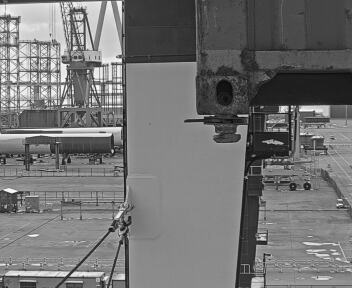twist_lock_1: (138, 183, 222, 232)
